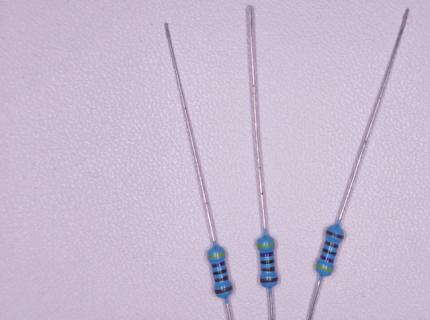Black band: (322, 247, 337, 256), (213, 269, 227, 276), (261, 260, 274, 264)
Brown band: (325, 229, 344, 240), (214, 286, 233, 295), (325, 240, 339, 249), (260, 277, 278, 283), (214, 276, 228, 282), (261, 267, 274, 271)
Violet band: (320, 254, 334, 264), (211, 261, 226, 268), (259, 252, 274, 257)
Yellow band: (315, 263, 334, 273), (208, 252, 226, 259), (257, 243, 275, 248)
